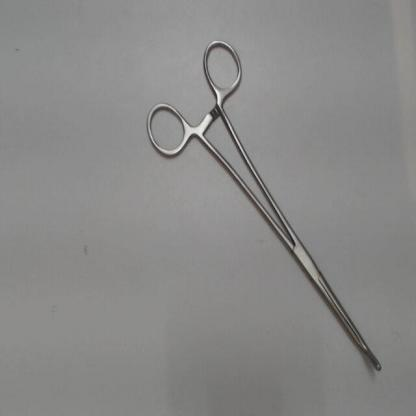Lahey Forceps: (143, 30, 393, 383)
